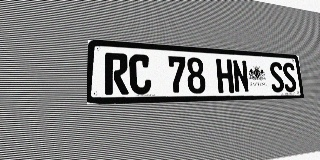7: (167, 56, 187, 94)
8: (186, 57, 206, 94)
C: (129, 54, 152, 94)
H: (216, 59, 234, 93)
N: (232, 59, 250, 93)
R: (105, 52, 129, 95)
S: (269, 62, 285, 92), (282, 62, 297, 92)
